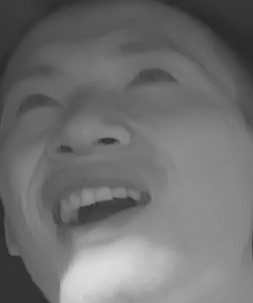eye: (122, 64, 181, 97), (13, 90, 61, 116)
mouth: (43, 165, 154, 247)
